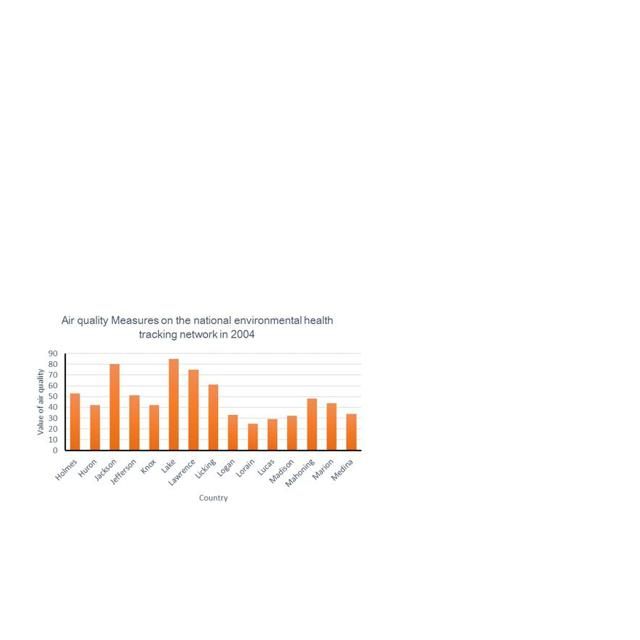Graph: (28, 310, 368, 506)
